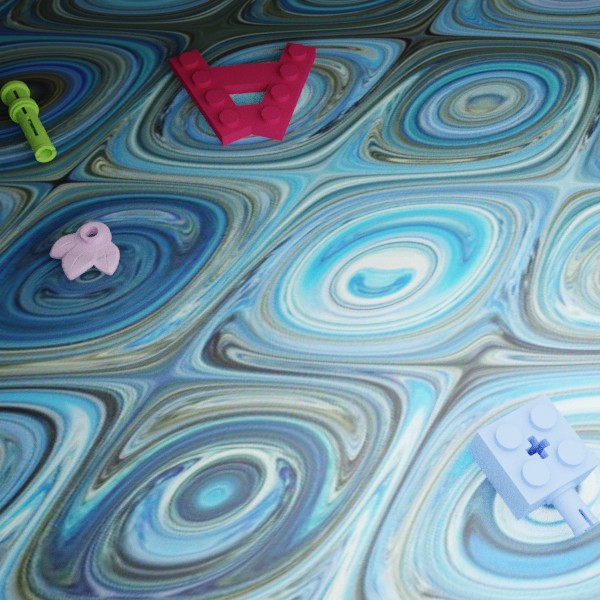lego: (467, 393, 599, 537), (169, 42, 316, 146), (0, 80, 56, 162), (49, 221, 119, 280)
